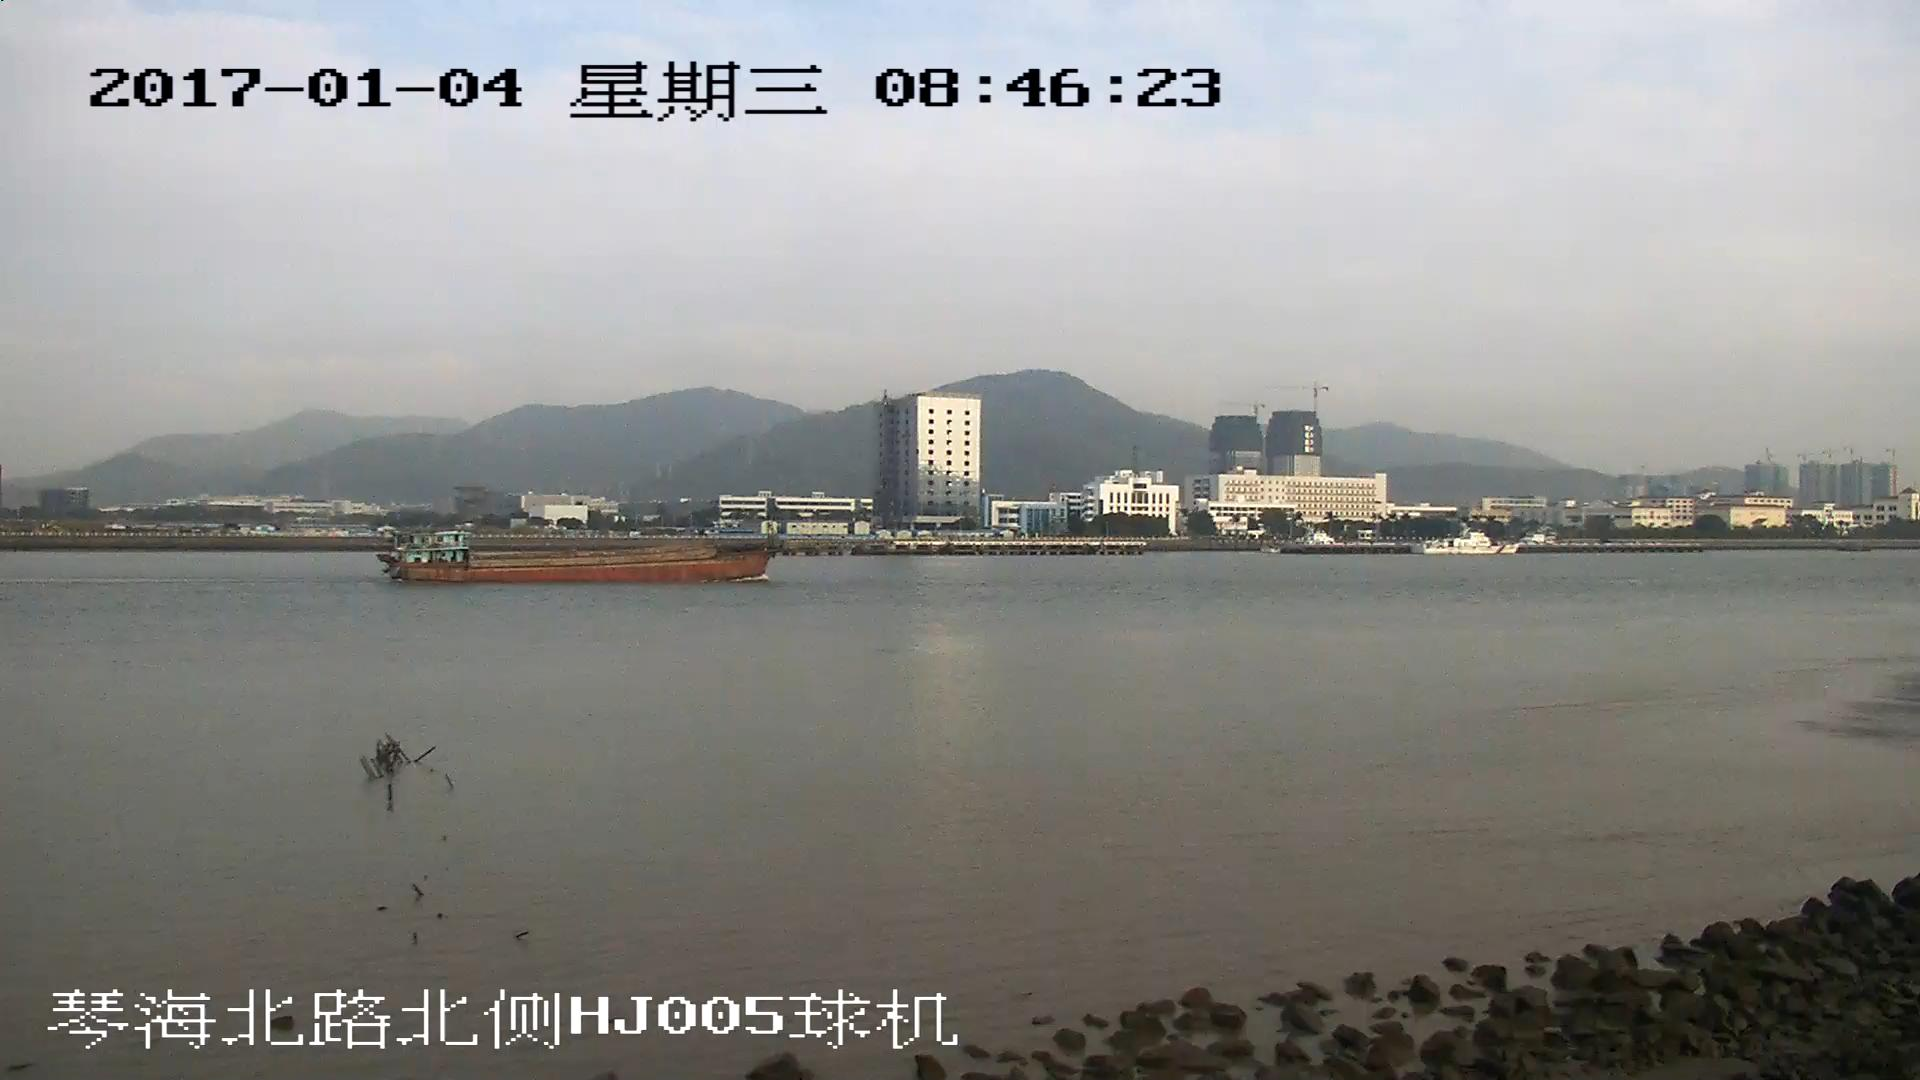bulk cargo carrier: (376, 525, 776, 580)
